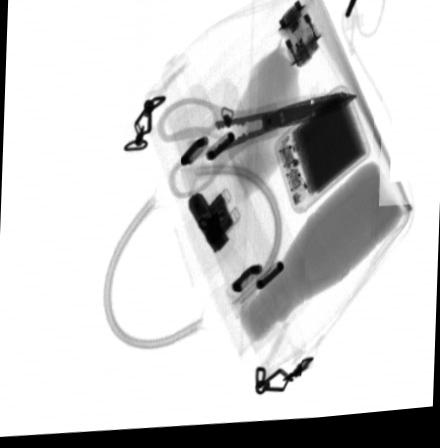Powerbank: (274, 90, 370, 221)
Scissors: (155, 92, 358, 202)
